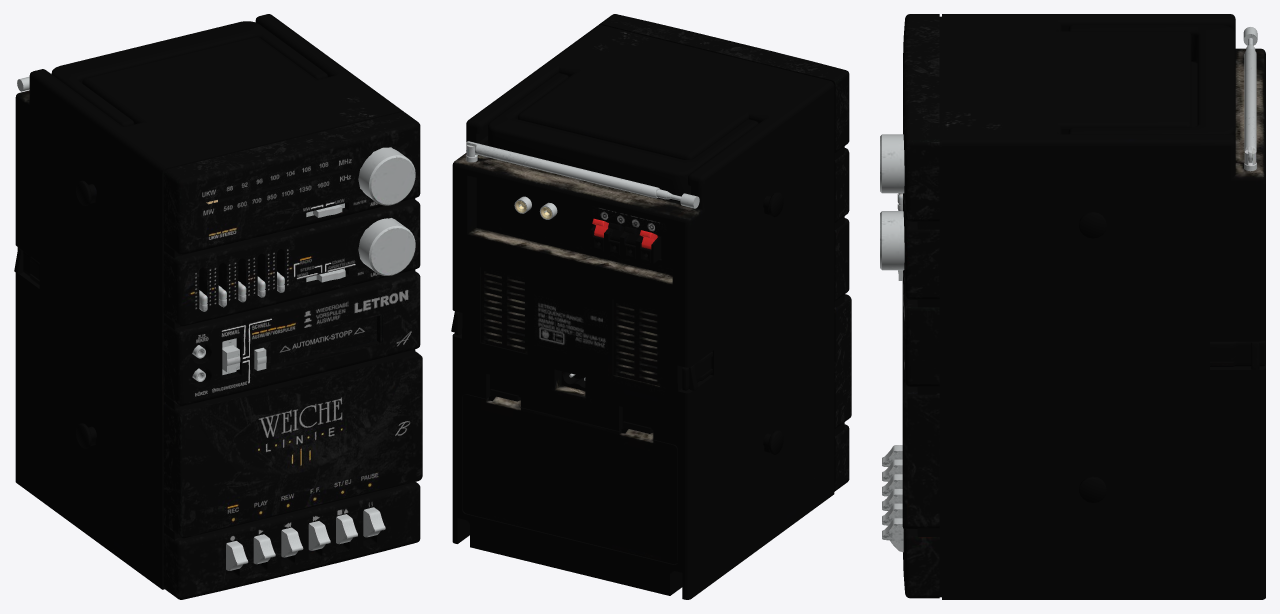
File: TapeDeck.glb
3 renders of one model, left to right at view 1: azimuth 30°, elevation 25°; view 2: azimuth 150°, elevation 25°; view 3: azimuth 270°, elevation 25°, orthographic. The views are drawn at different scales.
Visible parts, largest first — view 1: #APL0001_Body_38, #APL0001_Front_Face_30, #APL0001_Tape_Door_12, #APL0001_Handle_40, #APL0001_Tuner_35, Cylinder.004_37, #APL0001_Speed_5, #APL0001_Pause_7, #APL0001_Play_8; view 2: #APL0001_Body_38, #APL0001_Battery_Hatch_28, #APL0001_Front_Face_30, #APL0001_Handle_40, #APL0001_Grate_L_31, #APL0001_Grate_R_32, #APL0001_Antenna01_24, #APL0001_External_Speakers_Out_29; view 3: #APL0001_Body_38, #APL0001_Front_Face_30, #APL0001_Handle_40, Cylinder.004_37, #APL0001_Tuner_35, #APL0001_Antenna01_24, #APL0001_Tape_Door_12, #APL0001_Pause_7.
Boxes of the visible parts, box(x1,y1,x2,y2) form: #APL0001_Body_38: box(14, 14, 415, 589); #APL0001_Front_Face_30: box(163, 112, 420, 599); #APL0001_Tape_Door_12: box(178, 353, 422, 538); #APL0001_Handle_40: box(51, 21, 327, 126); #APL0001_Tuner_35: box(358, 147, 415, 205); Cylinder.004_37: box(358, 218, 415, 275); #APL0001_Speed_5: box(222, 338, 240, 374); #APL0001_Pause_7: box(363, 507, 385, 537); #APL0001_Play_8: box(253, 534, 275, 564); #APL0001_Body_38: box(451, 25, 844, 599); #APL0001_Battery_Hatch_28: box(462, 389, 677, 564); #APL0001_Front_Face_30: box(599, 14, 849, 491); #APL0001_Handle_40: box(488, 73, 758, 201); #APL0001_Grate_L_31: box(481, 267, 527, 353); #APL0001_Grate_R_32: box(613, 300, 659, 385); #APL0001_Antenna01_24: box(466, 141, 659, 198); #APL0001_External_Speakers_Out_29: box(590, 225, 661, 263); #APL0001_Body_38: box(917, 14, 1265, 599); #APL0001_Front_Face_30: box(903, 14, 939, 598); #APL0001_Handle_40: box(1068, 25, 1235, 138); Cylinder.004_37: box(880, 211, 904, 270); #APL0001_Tuner_35: box(880, 134, 904, 193); #APL0001_Antenna01_24: box(1244, 49, 1256, 162); #APL0001_Tape_Door_12: box(902, 281, 907, 528); #APL0001_Pause_7: box(882, 518, 903, 552).
Bounding box in the file's own units: 0.1655 × 0.2519 × 0.1907.
Materials: 2 (2 with a texture image).
